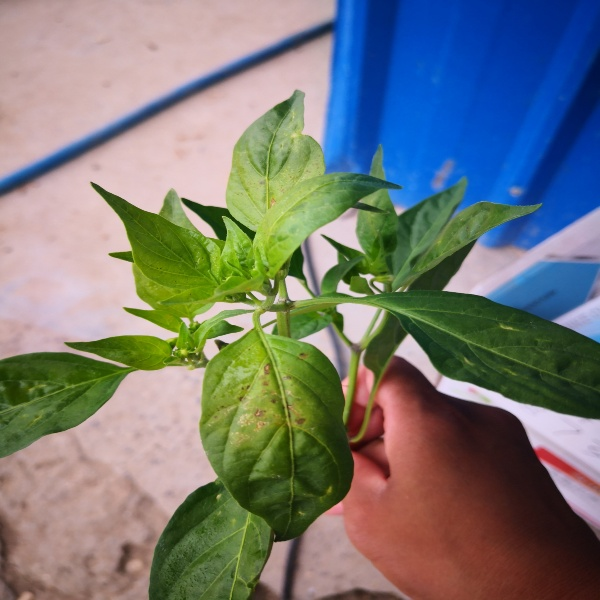Anthrax: (195, 333, 351, 536)
